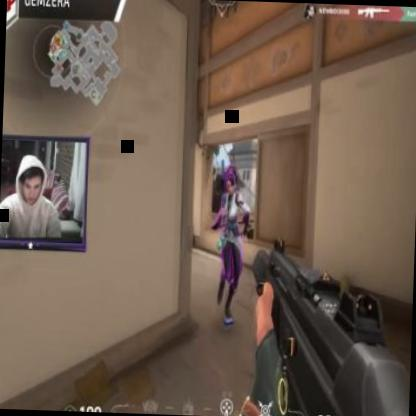enemy: (212, 161, 252, 328)
enemy_head: (226, 172, 235, 198)
